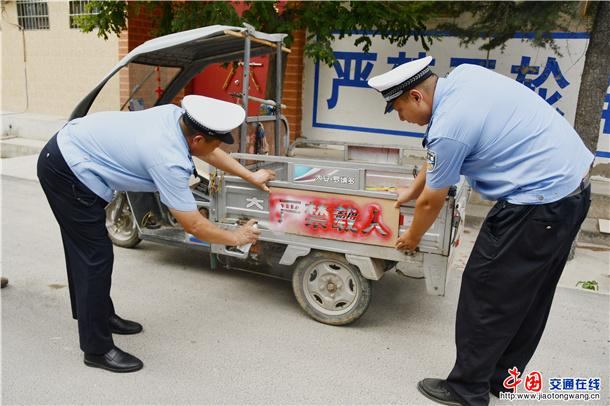empty: (46, 23, 462, 329)
